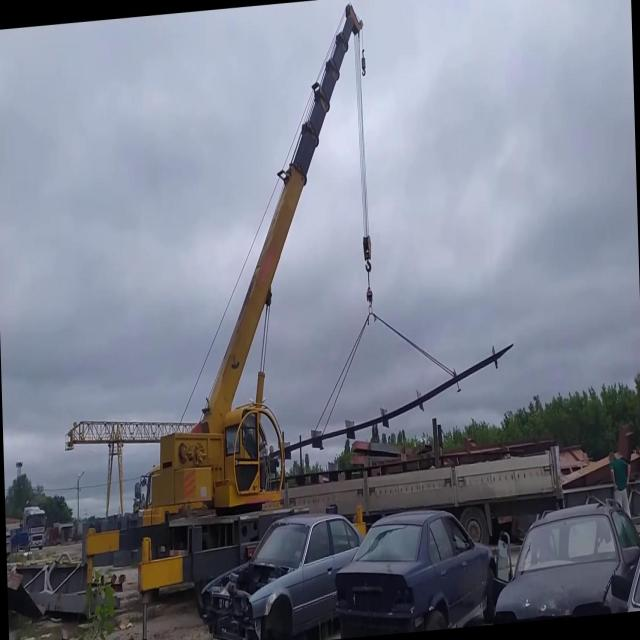crane: (57, 0, 387, 640)
